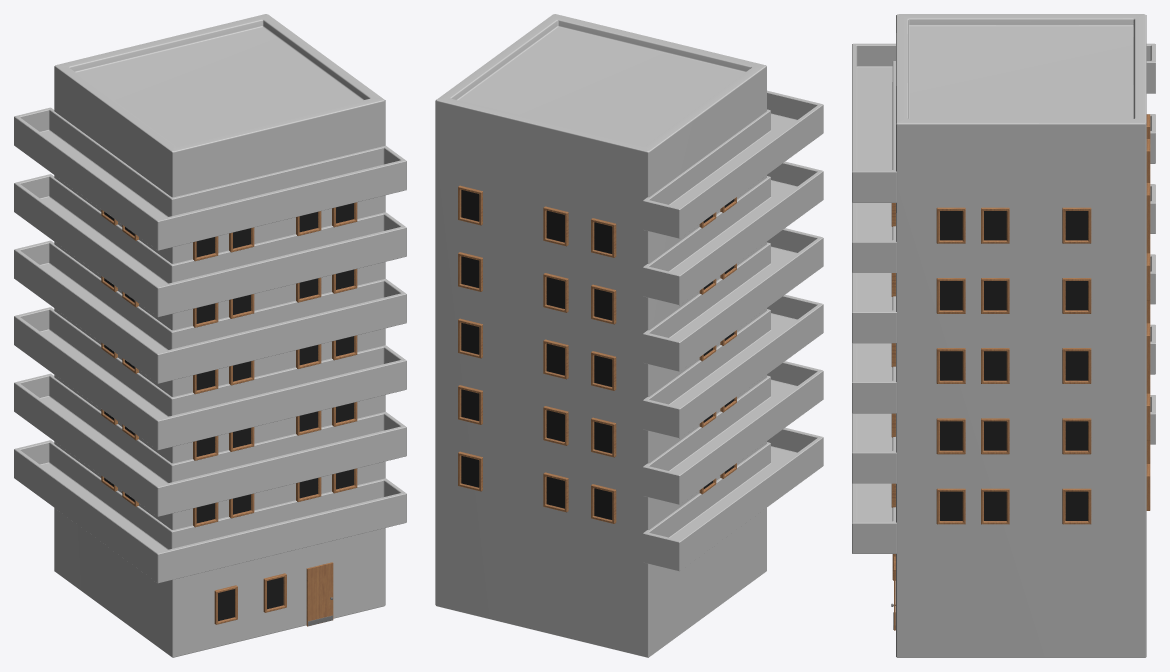
The model's file is SM_building_background_01.fbx.
The picture shows the model from 3 angles, left to right: view 1: azimuth 30°, elevation 25°; view 2: azimuth 150°, elevation 25°; view 3: azimuth 270°, elevation 25°; orthographic projection. The views are drawn at different scales.
Parts seen in each view (by area): view 1: building_background03; view 2: building_background03; view 3: building_background03.
Boxes of the visible parts, x1=… form: building_background03: x1=14, y1=14, x2=406, y2=657; building_background03: x1=435, y1=14, x2=823, y2=657; building_background03: x1=852, y1=14, x2=1155, y2=657.
Size of the model in its own units: 388 by 748 by 385.
